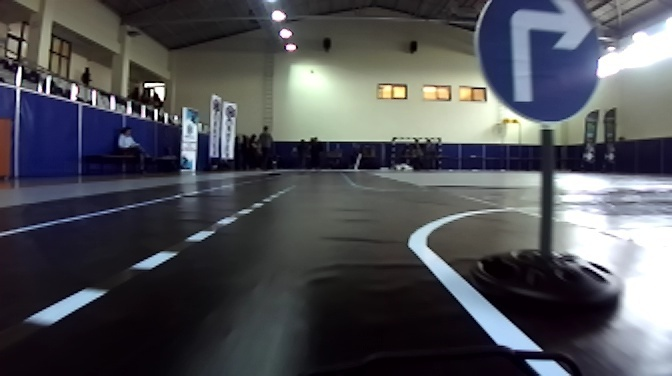saga_donus: (476, 1, 598, 125)
